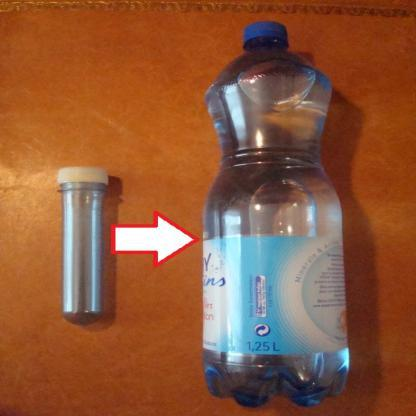bottle: (188, 7, 366, 414)
